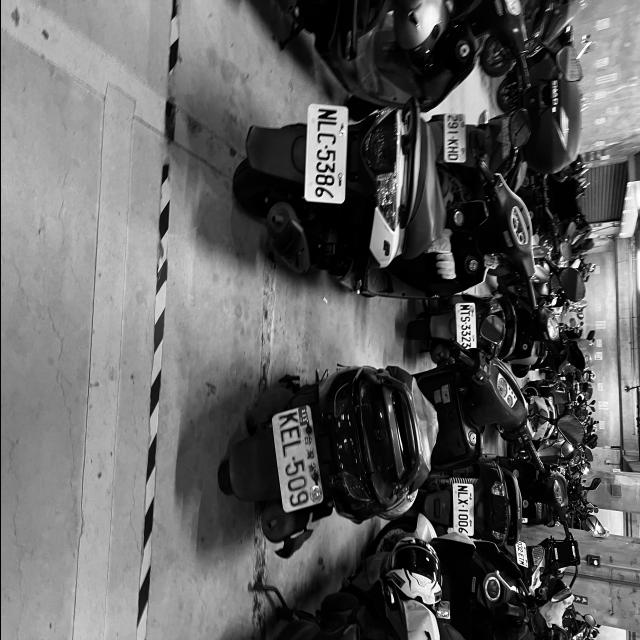-: (290, 456, 294, 462), (323, 144, 328, 148), (451, 136, 455, 138), (461, 504, 463, 508), (464, 322, 466, 324), (519, 552, 520, 554)
0: (285, 474, 308, 493), (458, 521, 468, 527), (458, 514, 468, 520)
1: (447, 130, 459, 134), (458, 509, 468, 512)
2: (446, 115, 458, 121), (460, 337, 470, 342), (517, 548, 522, 553)
3: (315, 162, 336, 174), (460, 324, 470, 330), (460, 330, 470, 336), (460, 342, 470, 348), (516, 544, 522, 549)
5: (283, 458, 306, 479), (316, 150, 336, 161)
6: (314, 186, 334, 198), (457, 528, 467, 534)
8: (314, 175, 335, 185)
9: (288, 489, 309, 508), (447, 121, 458, 129)
C: (316, 132, 336, 145)
D: (448, 154, 458, 160)
E: (279, 424, 301, 443), (517, 553, 523, 558)
H: (446, 146, 458, 154)
K: (277, 411, 299, 429), (447, 138, 459, 146)
L: (280, 440, 303, 459), (316, 121, 337, 132), (458, 492, 468, 498)
M: (459, 304, 470, 310), (518, 560, 524, 566)
N: (317, 108, 337, 121), (457, 486, 467, 492)
S: (460, 316, 470, 322)
T: (460, 310, 470, 316), (518, 557, 523, 561)
X: (457, 498, 467, 504)
plate: (271, 407, 322, 512), (304, 105, 347, 203), (444, 114, 464, 162), (454, 484, 472, 534), (458, 303, 473, 349)
